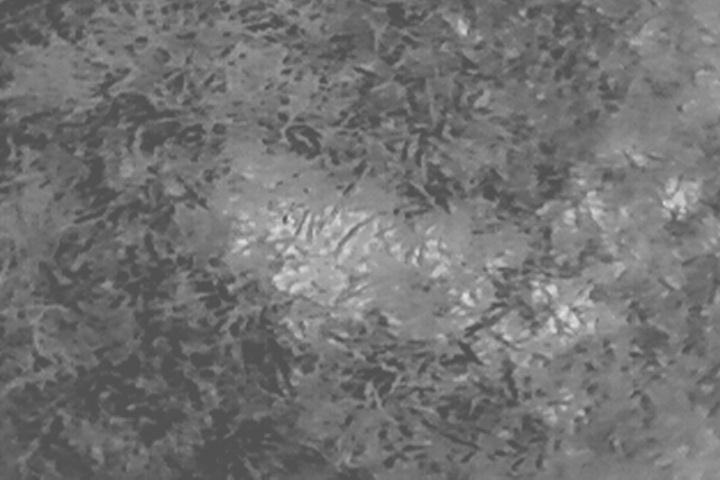landmine: (239, 179, 380, 293)
